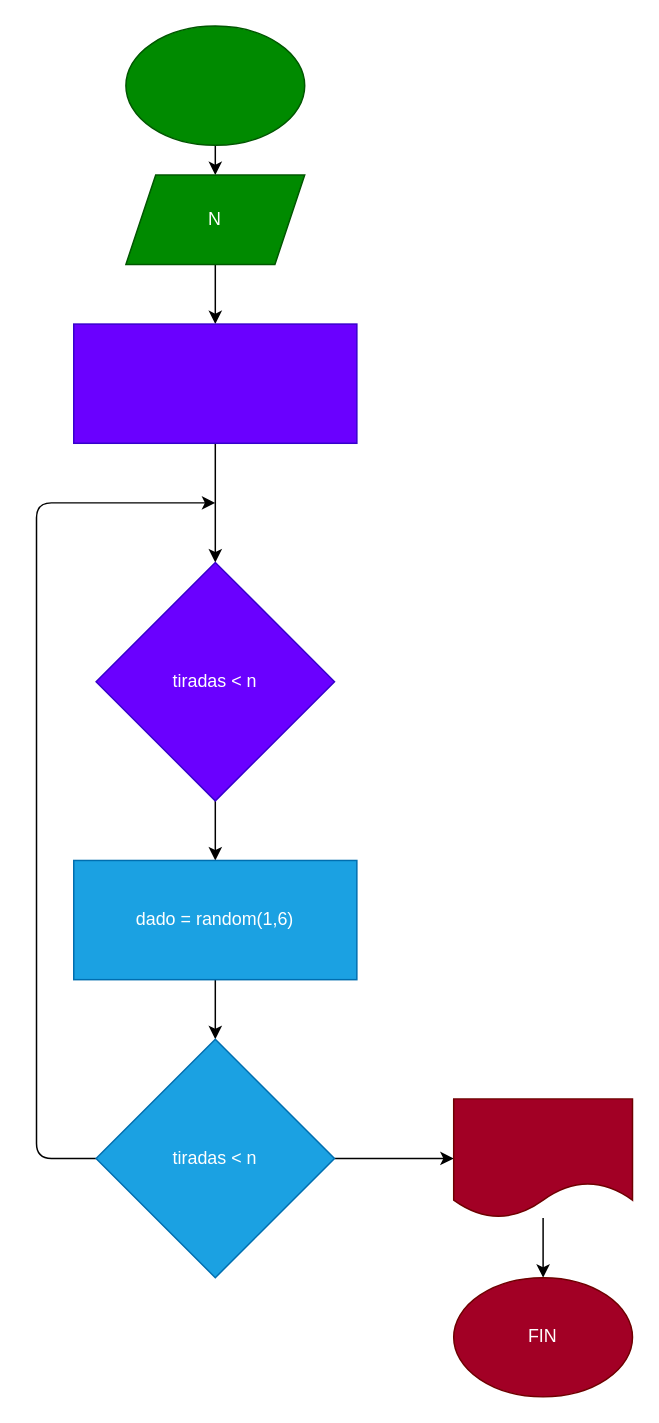
The diagram is 659 pixels wide and 1423 high, and some of its shapes have lost their labels. The shapes that lost their labels are listed below. From the top down, each one's box as (x1, y1, x2, y2) in pixels, then its label:
(124, 25, 305, 145): INICIO
(72, 323, 357, 443): tiradas = 0 contador = 0
(452, 1097, 633, 1218): contador
